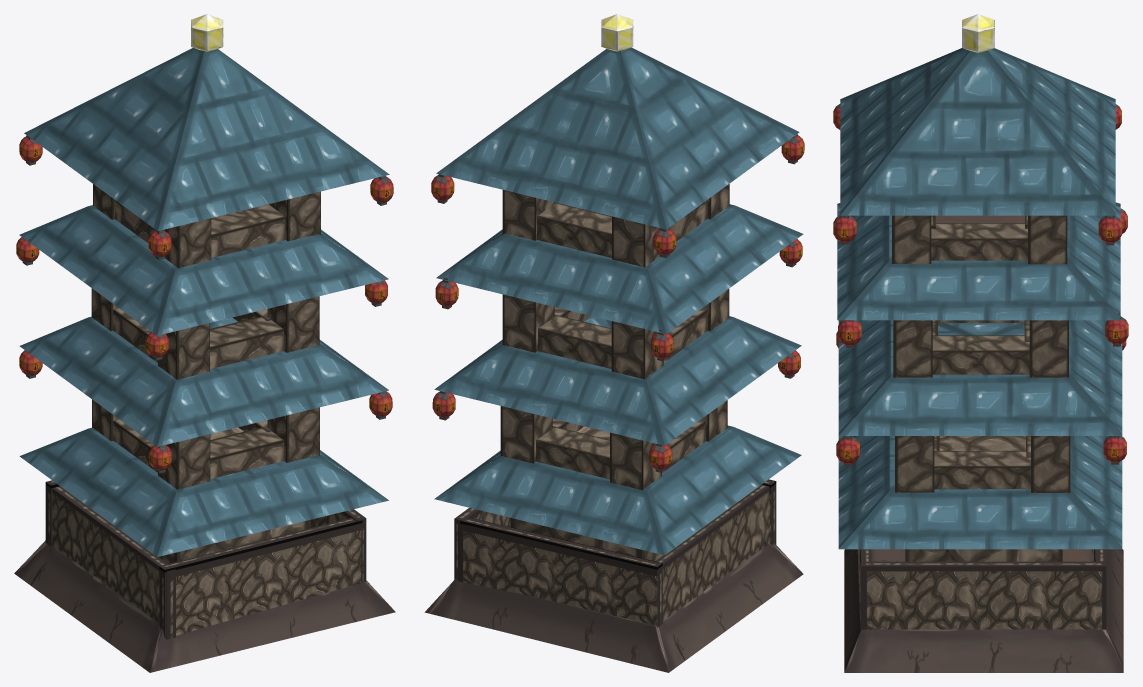
The model's file is sniper tower upgrade 2 .fbx.
3 views of the same model, side by side, from view 1: azimuth 30°, elevation 25°; view 2: azimuth 150°, elevation 25°; view 3: azimuth 270°, elevation 25° (orthographic). The views are drawn at different scales.
Parts seen in each view (by area): view 1: boven dak, dak 2 .2, dak 1, dak 2, base, Cube.2, Cube, Cube.12, Cube.11, Cube.11.2, Cube.3.2, Cube.4 (+13 smaller); view 2: boven dak, dak 2 .2, dak 2, dak 1, base, Cube.1, Cube, Cube.15, Cube.14, Cube.14.2, Cube.2.2, Cube.2.3 (+13 smaller); view 3: boven dak, dak 2 .2, dak 1, dak 2, Cube.3, base, Cube.9, Cube.9.2, Cube.13, eerste verdieping, Cube.1.2, Cube.4 (+12 smaller).
Boxes of the visible parts, x1,y1,x2,y2 form: boven dak: [24, 48, 389, 230]; dak 2 .2: [19, 316, 388, 446]; dak 1: [19, 427, 388, 556]; dak 2: [19, 205, 388, 335]; base: [14, 540, 395, 672]; Cube.2: [159, 518, 362, 638]; Cube: [52, 486, 175, 639]; Cube.12: [211, 204, 285, 257]; Cube.11: [210, 316, 283, 368]; Cube.11.2: [210, 427, 284, 478]; Cube.3.2: [158, 323, 209, 379]; Cube.4: [267, 296, 319, 352]; boven dak: [436, 47, 799, 229]; dak 2 .2: [434, 316, 801, 445]; dak 2: [436, 204, 803, 334]; dak 1: [434, 425, 801, 555]; base: [424, 543, 803, 672]; Cube.1: [458, 517, 662, 627]; Cube: [655, 484, 769, 620]; Cube.15: [537, 202, 611, 257]; Cube.14: [538, 314, 611, 368]; Cube.14.2: [536, 426, 609, 479]; Cube.2.2: [611, 321, 663, 379]; Cube.2.3: [610, 432, 661, 490]; boven dak: [840, 48, 1115, 215]; dak 2 .2: [838, 320, 1122, 435]; dak 1: [838, 436, 1122, 549]; dak 2: [837, 202, 1120, 320]; Cube.3: [860, 561, 1105, 630]; base: [844, 549, 1123, 672]; Cube.9: [932, 335, 1029, 374]; Cube.9.2: [934, 451, 1030, 489]; Cube.13: [931, 223, 1027, 260]; eerste verdieping: [905, 436, 1062, 561]; Cube.1.2: [1029, 320, 1068, 377]; Cube.4: [893, 320, 932, 377].
Bounding box in the file's own units: 371 × 839 × 375.
48 materials, 48 textured.
